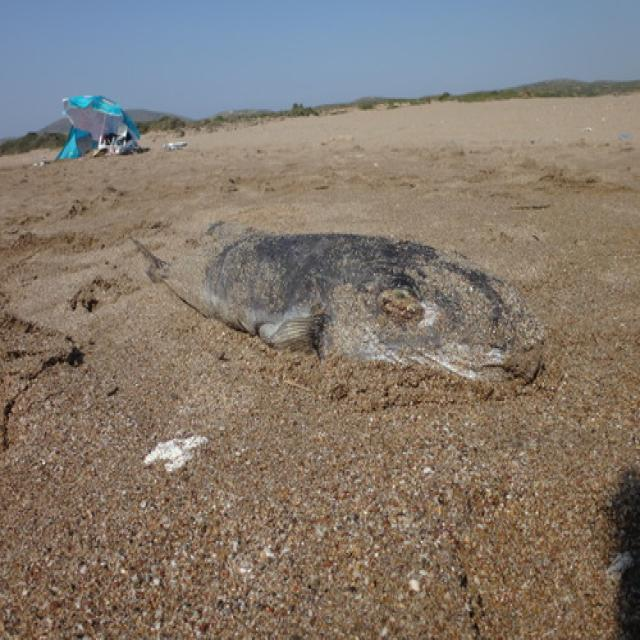Balik: (136, 222, 543, 380)
